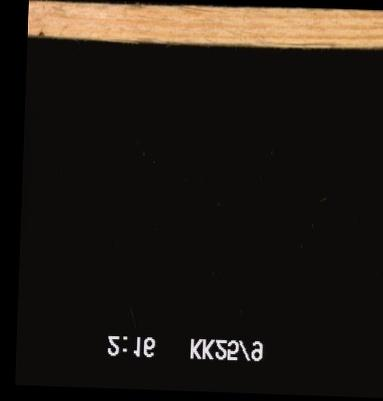edge_knot: (34, 25, 51, 39)
